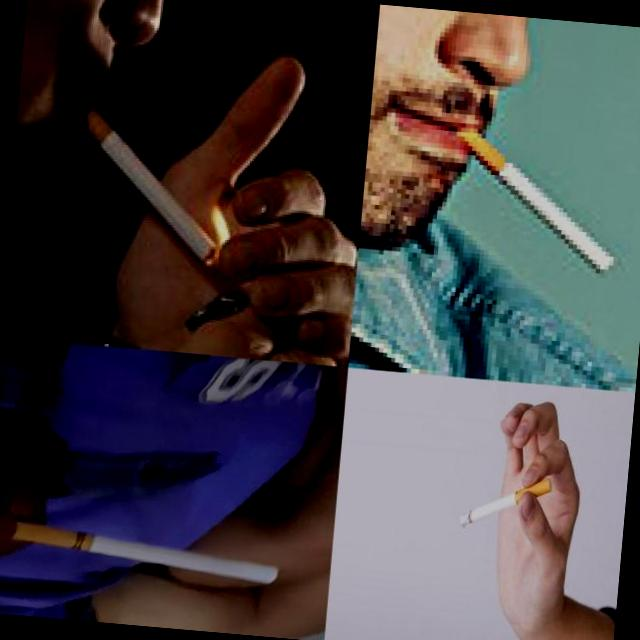smoke: (444, 120, 626, 276), (66, 97, 232, 266), (4, 516, 283, 586), (458, 470, 554, 536)
